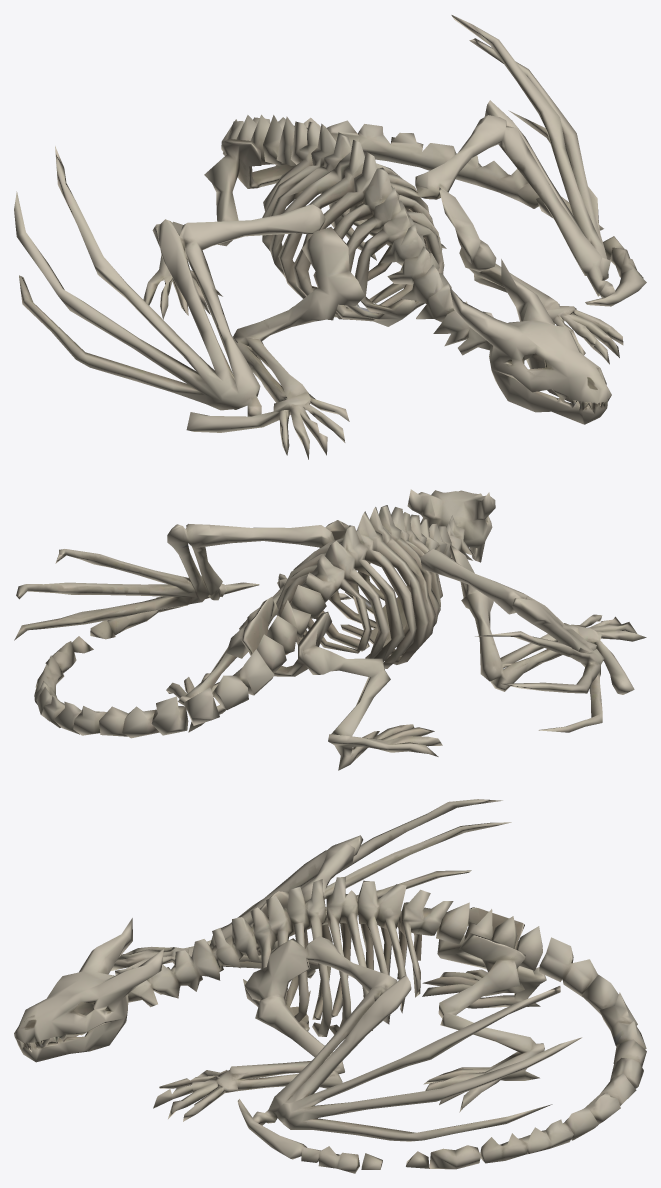
The model's file is dragon-skeleton.glb.
3 views of the same model, one above another, from view 1: azimuth 30°, elevation 25°; view 2: azimuth 150°, elevation 25°; view 3: azimuth 270°, elevation 25° (orthographic). The views are drawn at different scales.
Visible parts, largest first — view 1: tripo_node_4d2ebad9-5cb9-42f6-8ec0-d507d35069e4; view 2: tripo_node_4d2ebad9-5cb9-42f6-8ec0-d507d35069e4; view 3: tripo_node_4d2ebad9-5cb9-42f6-8ec0-d507d35069e4.
Boxes of the visible parts, left/top/right/bottom form: tripo_node_4d2ebad9-5cb9-42f6-8ec0-d507d35069e4: left=14, top=15, right=646, bottom=459; tripo_node_4d2ebad9-5cb9-42f6-8ec0-d507d35069e4: left=14, top=489, right=646, bottom=770; tripo_node_4d2ebad9-5cb9-42f6-8ec0-d507d35069e4: left=14, top=799, right=646, bottom=1173.
Size of the model in its own units: 0.9362 by 0.3052 by 1.
1 material, 1 textured.
